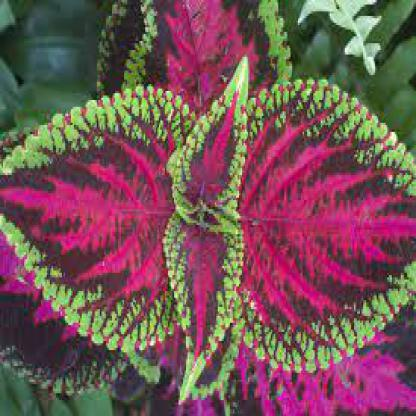Bunga Coleus: (39, 81, 393, 354)
